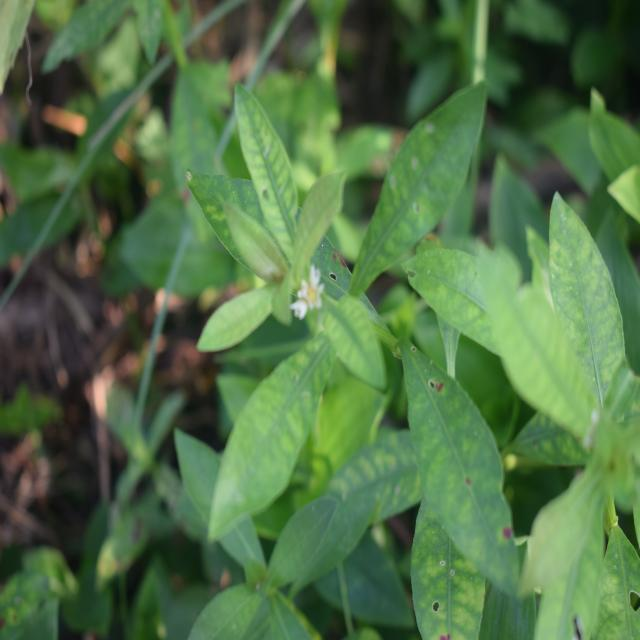Alligatorweed: (194, 78, 517, 556)
